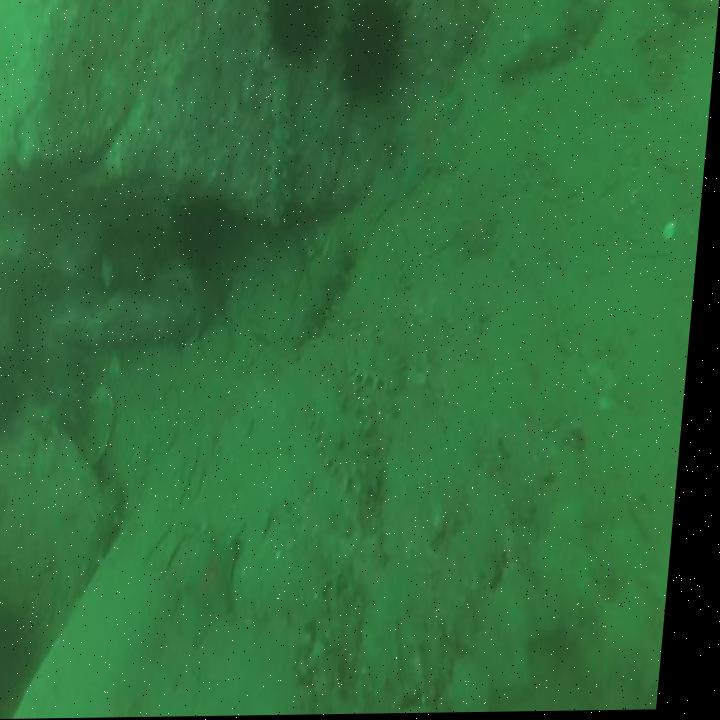echinus: (341, 0, 404, 97), (174, 196, 243, 279), (265, 0, 329, 64)
holothurian: (313, 397, 396, 506), (503, 0, 609, 81), (290, 232, 351, 343), (263, 78, 299, 221), (348, 327, 412, 395)
scallop: (88, 388, 127, 468)
starfish: (394, 82, 462, 198), (190, 535, 251, 645), (457, 200, 503, 272)
